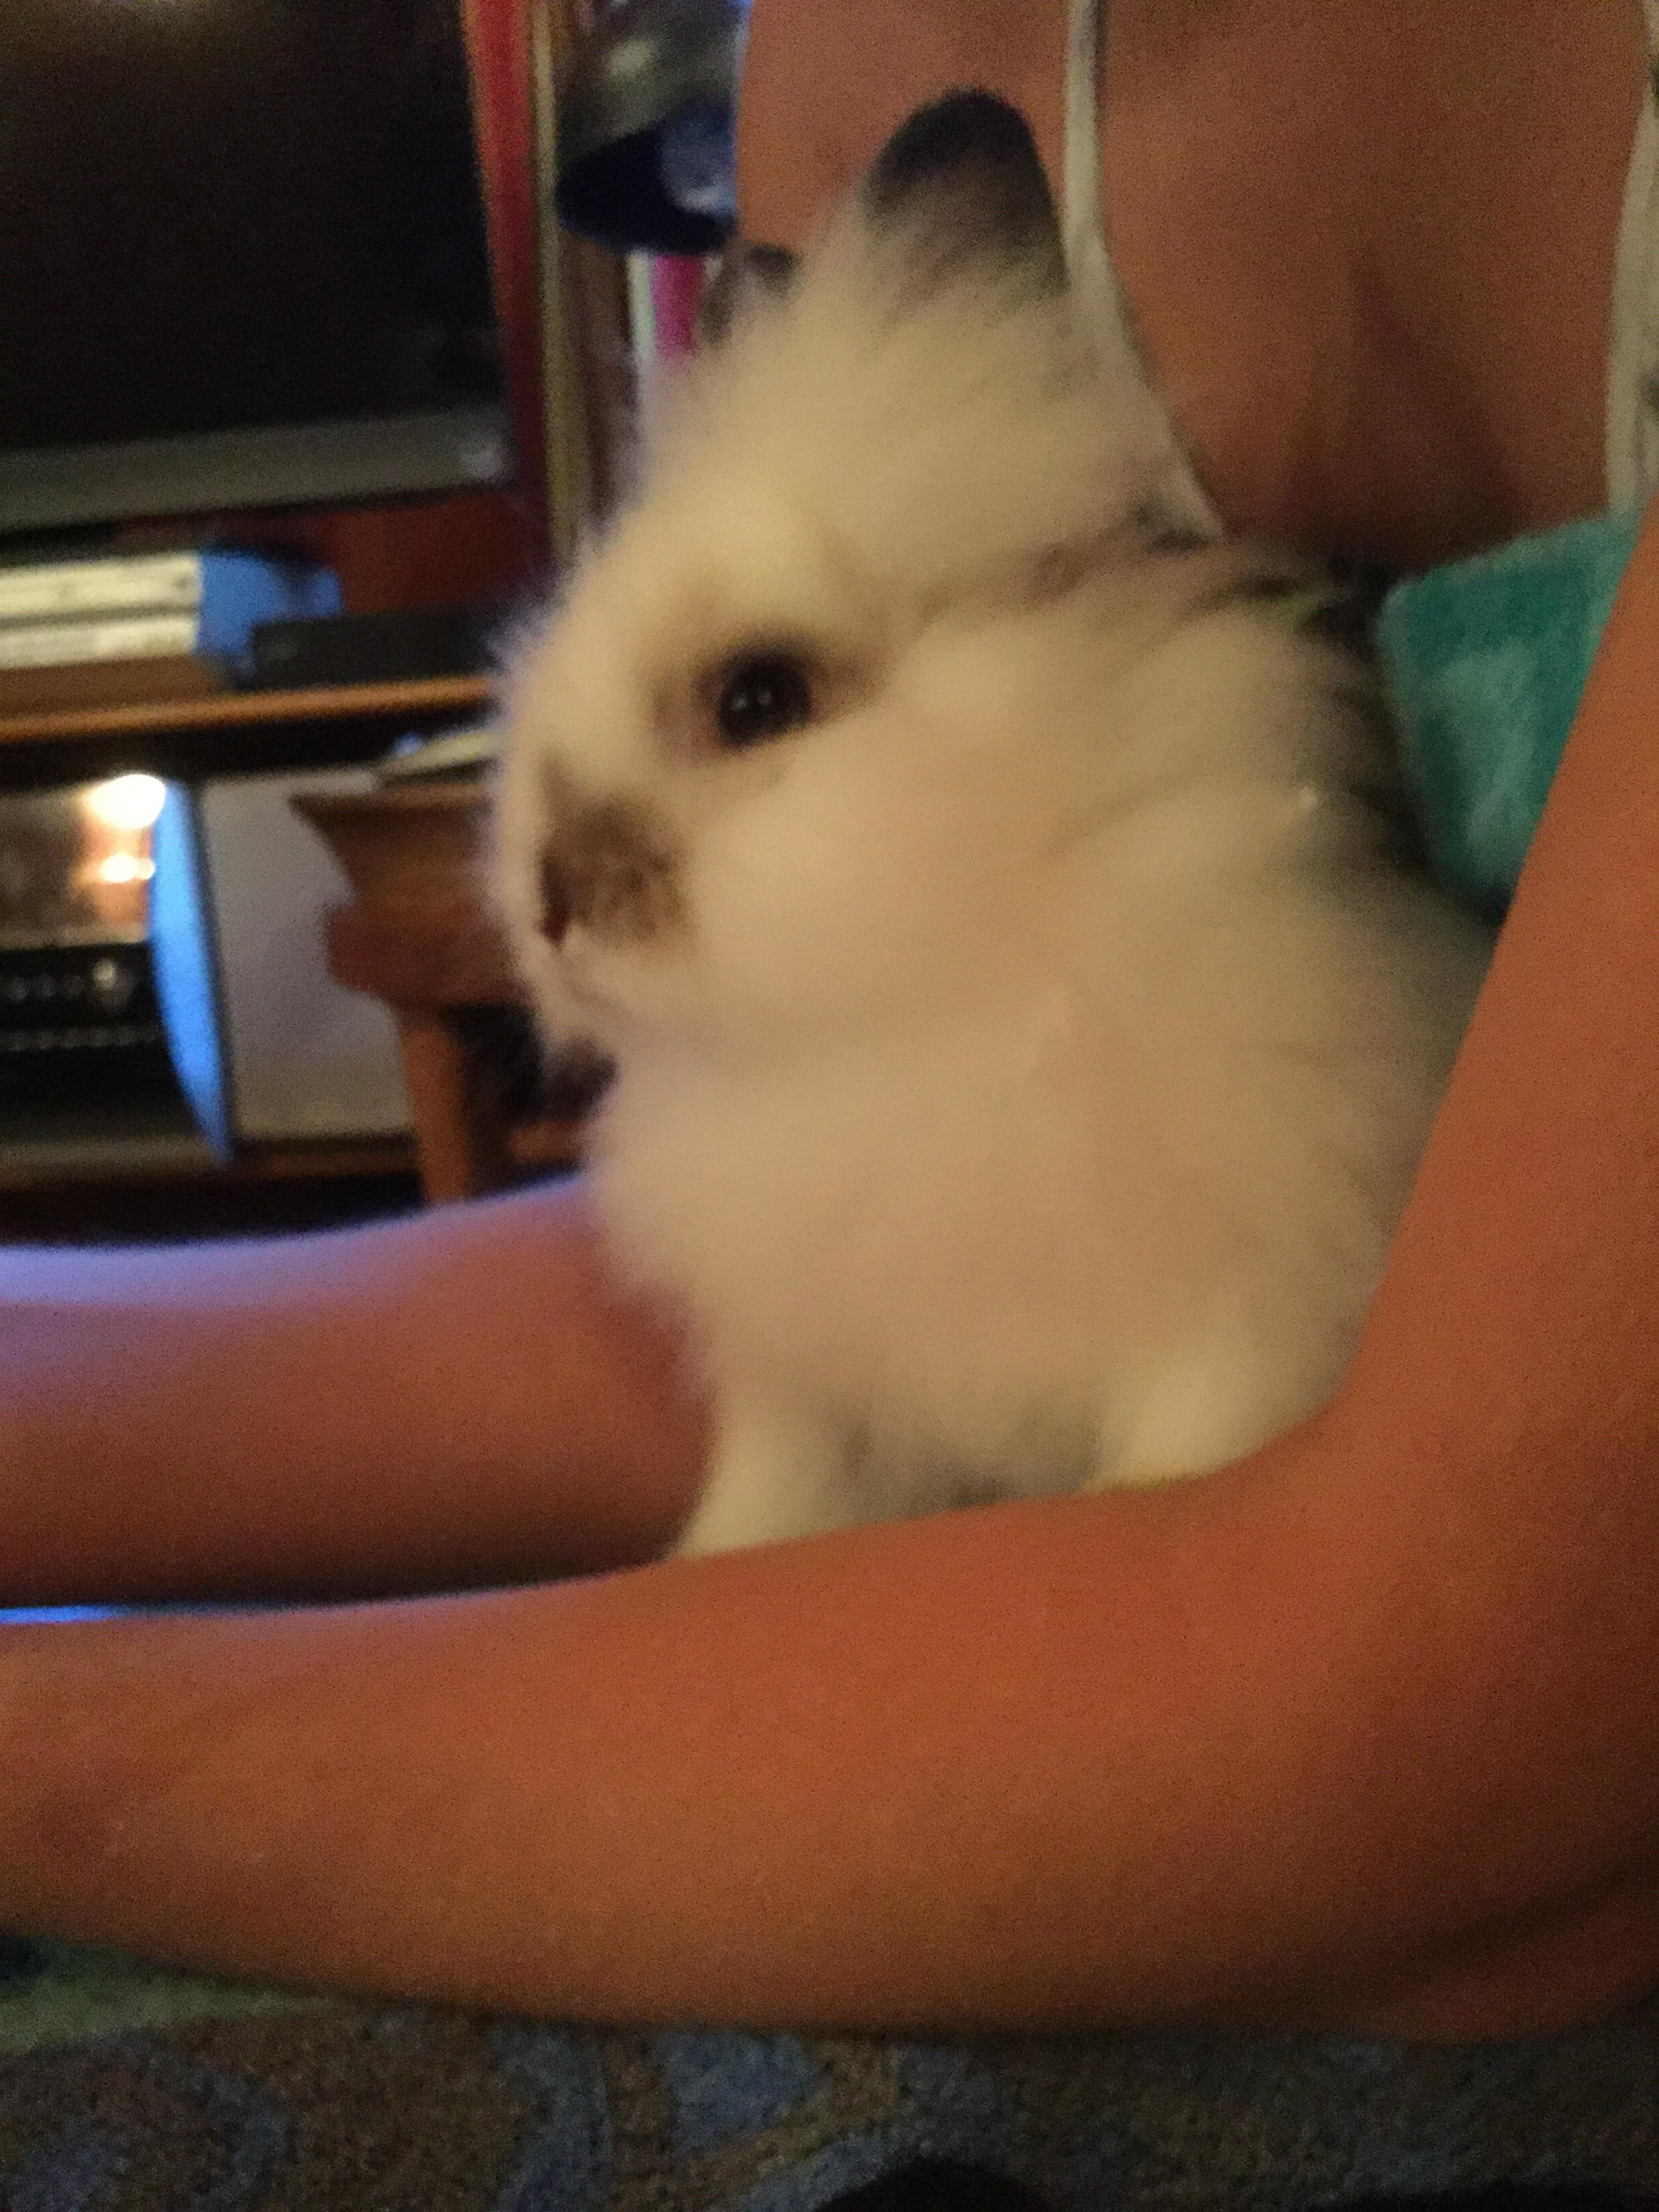bunny: (397, 63, 1511, 1561)
